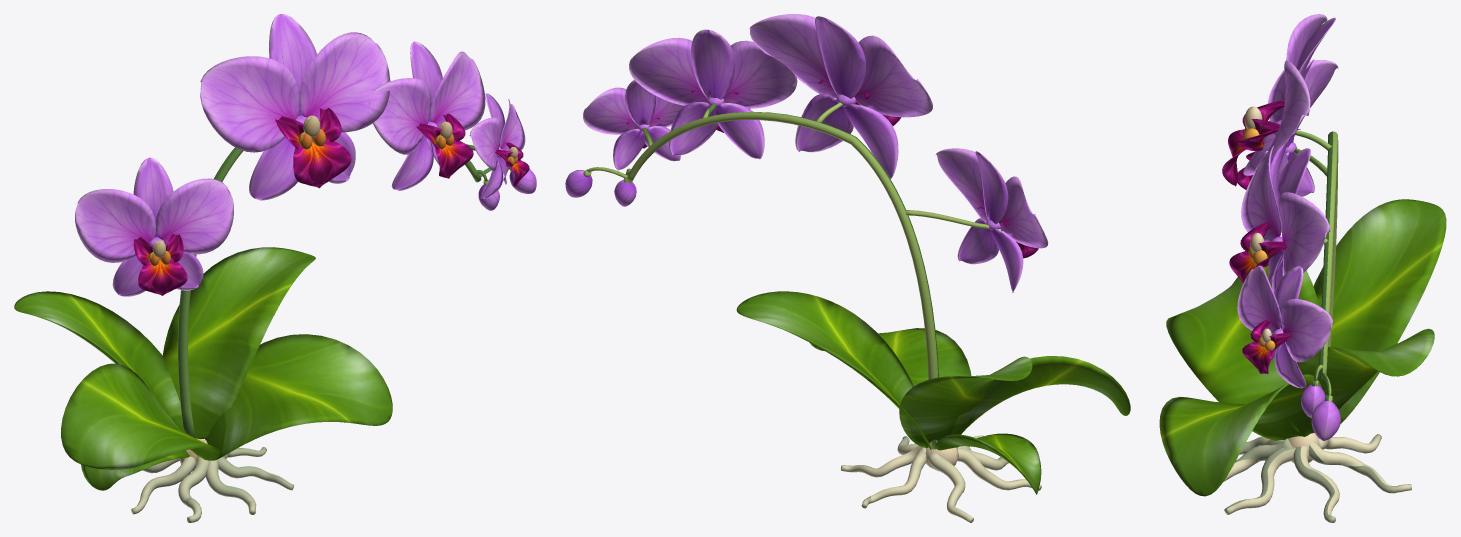
Rendered from NP_Orchid_Ready.fbx.
3 renders of one model, left to right at view 1: azimuth 30°, elevation 25°; view 2: azimuth 150°, elevation 25°; view 3: azimuth 270°, elevation 25°, orthographic. The views are drawn at different scales.
Parts seen in each view (by area): view 1: NP_Orchid_Ready; view 2: NP_Orchid_Ready; view 3: NP_Orchid_Ready.
Boxes of the visible parts, box(x1,y1,x2,y2) form: NP_Orchid_Ready: box(14, 14, 536, 522); NP_Orchid_Ready: box(565, 14, 1130, 522); NP_Orchid_Ready: box(1159, 14, 1446, 522).
Size of the model in its own units: 131 by 107 by 54.1.
1 material, 1 textured.
